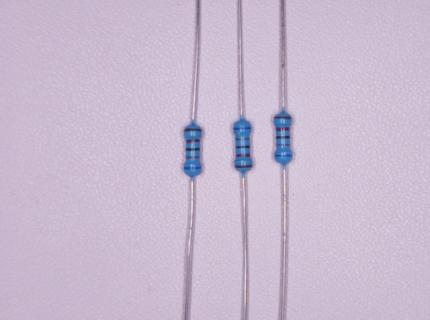Black band: (186, 147, 200, 151), (236, 145, 250, 149), (276, 136, 290, 139)
Blue band: (184, 166, 202, 169), (233, 127, 251, 130), (274, 154, 292, 157)
Brown band: (184, 128, 202, 132), (235, 165, 253, 168), (274, 116, 292, 119)
Grey band: (235, 137, 249, 141), (186, 156, 200, 159), (277, 143, 290, 146)
Red band: (276, 127, 290, 131), (236, 153, 250, 157), (186, 139, 200, 143)
